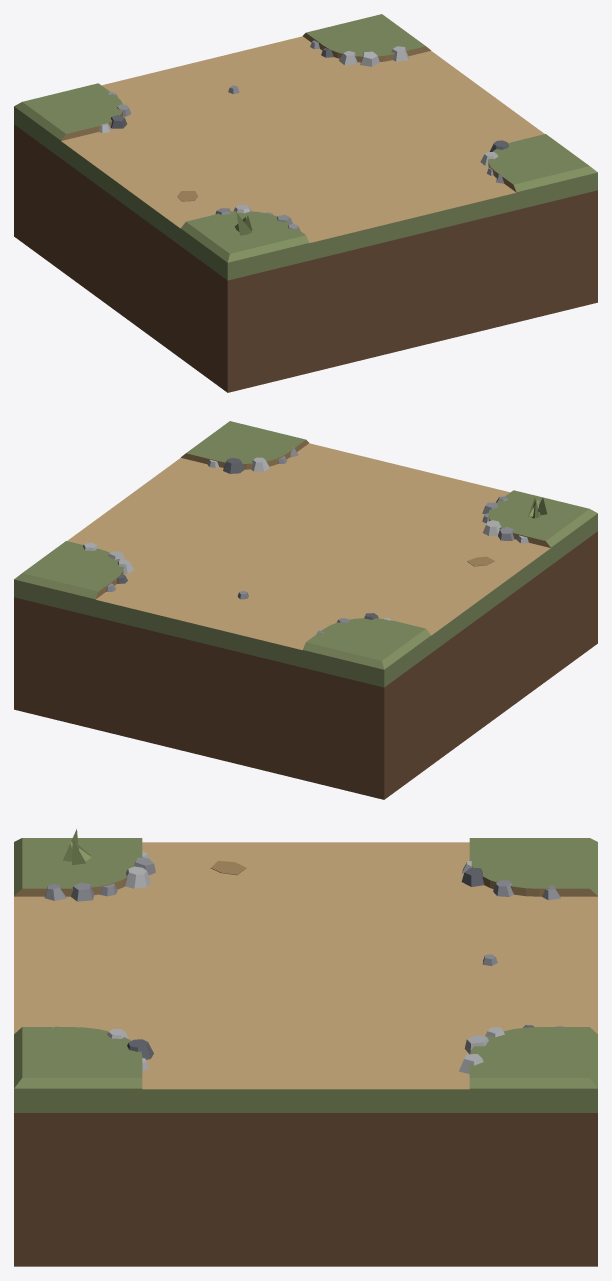
The model's file is Road Cross.fbx.
The picture shows the model from 3 angles, top to bottom: view 1: azimuth 30°, elevation 25°; view 2: azimuth 150°, elevation 25°; view 3: azimuth 270°, elevation 25°; orthographic projection. The views are drawn at different scales.
Visible parts, largest first — view 1: Road Cross; view 2: Road Cross; view 3: Road Cross.
Boxes of the visible parts, x1,y1,x2,y2 form: Road Cross: [14, 14, 597, 392]; Road Cross: [14, 421, 597, 799]; Road Cross: [14, 829, 597, 1266].
Bounding box in the file's own units: 1 × 0.4017 × 1.
